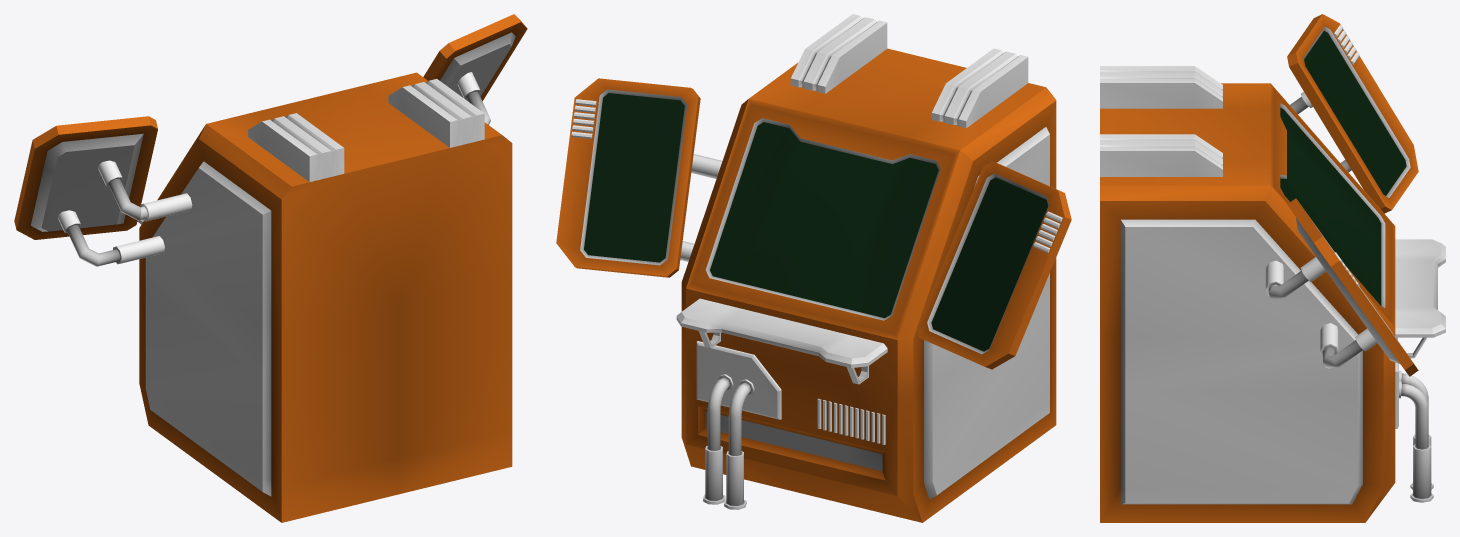
The model's file is deco_screenDevice.FBX.
3 views of the same model, side by side, from view 1: azimuth 30°, elevation 25°; view 2: azimuth 150°, elevation 25°; view 3: azimuth 270°, elevation 25° (orthographic).
Visible parts, largest first — view 1: deco_screenDevice; view 2: deco_screenDevice; view 3: deco_screenDevice.
Boxes of the visible parts, x1=… form: deco_screenDevice: x1=14, y1=14, x2=527, y2=522; deco_screenDevice: x1=556, y1=14, x2=1071, y2=522; deco_screenDevice: x1=1100, y1=14, x2=1445, y2=522.
Size of the model in its own units: 2.14 by 1.49 by 1.3.
